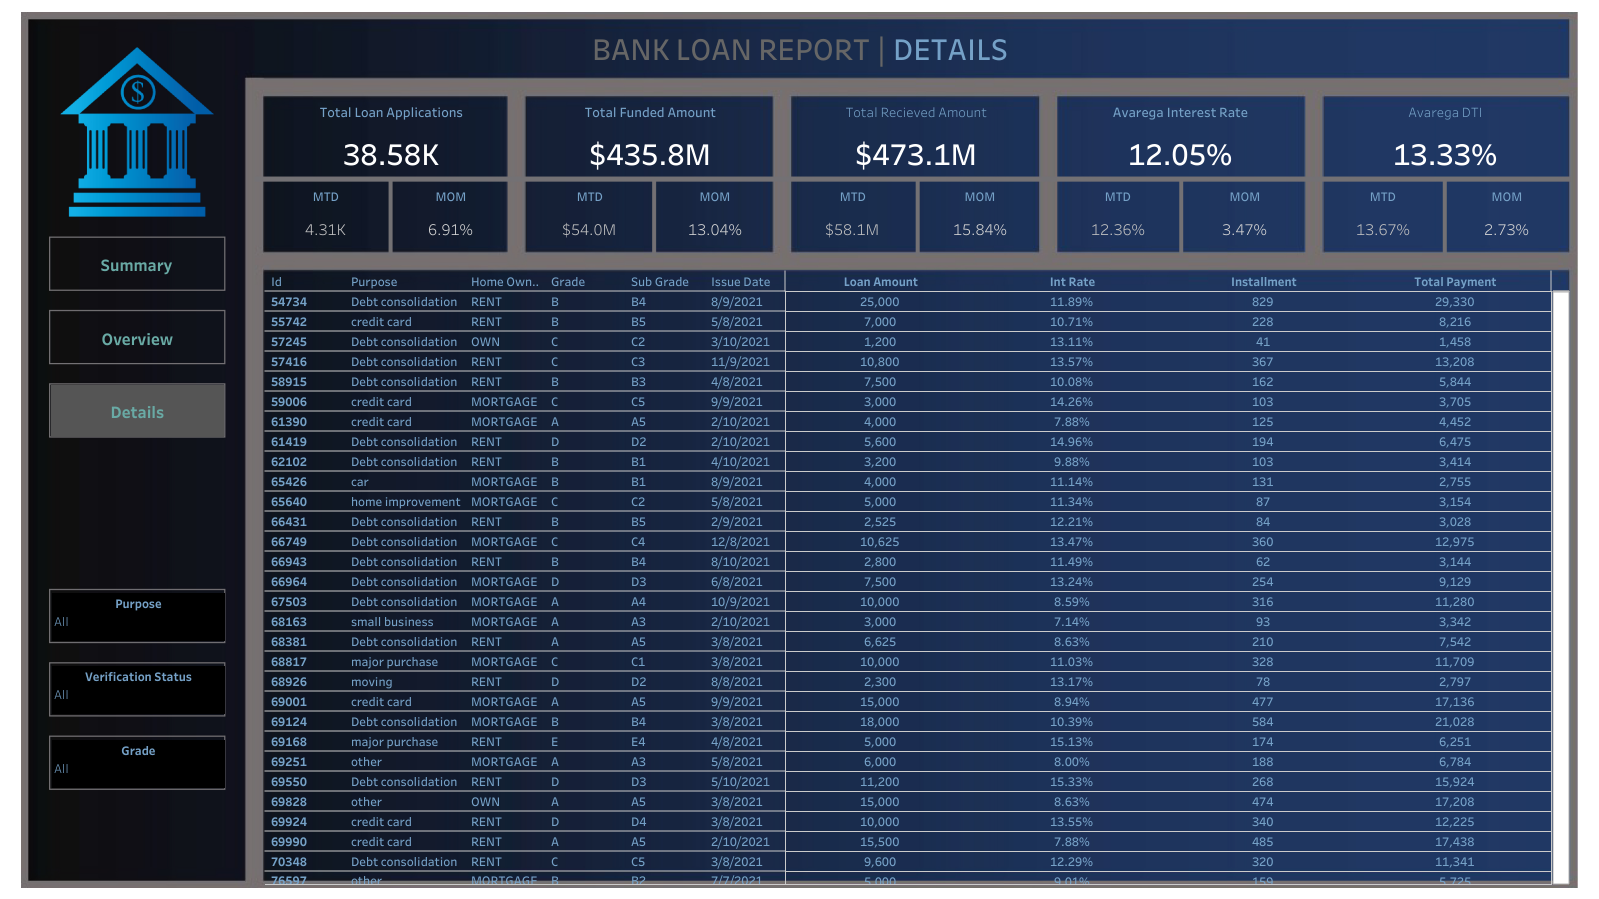

The dashboard page shown, as its layout file describes it:
{"tool":"tableau","page":{"name":"Details","canvas":[1600,900],"ordinal":0},"visuals":[{"type":"image","param":"Image/summary-01.jpg","box":[8,8,1584,884]},{"type":"text","box":[400,8,800,80]},{"type":"worksheet","title":"Total Loan Applications","mark":"Automatic","box":[269,96,245,81]},{"type":"worksheet","title":"Total Funded Amount","mark":"Automatic","box":[528,96,245,81]},{"type":"worksheet","title":"Total Recieved Amount","mark":"Automatic","box":[794,96,245,81]},{"type":"worksheet","title":"Avarega Interest Rate","mark":"Automatic","box":[1058,96,245,81]},{"type":"worksheet","title":"Avarega DTI","mark":"Automatic","box":[1323,96,245,81]},{"type":"worksheet","title":"MTD Total Loan Applications","mark":"Automatic","box":[273,181,106,63]},{"type":"worksheet","title":"MOM Total Loan Applications","mark":"Automatic","box":[398,181,106,63]},{"type":"worksheet","title":"MTD Total Funded Amount","mark":"Automatic","box":[537,181,106,63]},{"type":"worksheet","title":"MOM Total Funded Amount","mark":"Automatic","box":[662,181,106,63]},{"type":"worksheet","title":"MTD Total Received Amount","mark":"Automatic","box":[800,181,106,63]},{"type":"worksheet","title":"MOM Total Received Amount","mark":"Automatic","box":[927,181,106,63]},{"type":"worksheet","title":"MTD Average Interest Rate","mark":"Automatic","box":[1065,181,106,63]},{"type":"worksheet","title":"MOM Average Interest Rate","mark":"Automatic","box":[1192,181,106,63]},{"type":"worksheet","title":"MTD Average DTI","mark":"Automatic","box":[1330,181,106,63]},{"type":"worksheet","title":"MOM Average DTI","mark":"Automatic","box":[1454,181,106,63]},{"type":"dashboard-object","box":[50,238,173,52]},{"type":"worksheet","title":"Details Tab","mark":"Automatic","rows":["id","purpose","home_ownership","grade","sub_grade","con_issue_date"],"box":[265,271,1305,614]},{"type":"dashboard-object","box":[51,312,173,52]},{"type":"dashboard-object","box":[51,385,173,52]},{"type":"filter","title":"Avarega DTI","param":"[federated.054zzhb0m2kzyd1e27fpj0euf85e].[none:purpose:nk]","box":[52,593,173,48]},{"type":"filter","title":"Avarega DTI","param":"[federated.054zzhb0m2kzyd1e27fpj0euf85e].[none:verification_status:nk]","box":[52,666,173,48]},{"type":"filter","title":"Avarega DTI","param":"[federated.054zzhb0m2kzyd1e27fpj0euf85e].[none:grade:nk]","box":[52,740,173,48]}]}

Visuals, with their boxes in screenshot pixels (x1, y1, x2, y2), scaled from the page's 1600x900 canvas onto the 1599x899 screenshot:
image: <box>8,8,1591,891</box>
text: <box>400,8,1199,88</box>
"Total Loan Applications" worksheet: <box>269,96,514,177</box>
"Total Funded Amount" worksheet: <box>528,96,773,177</box>
"Total Recieved Amount" worksheet: <box>794,96,1038,177</box>
"Avarega Interest Rate" worksheet: <box>1057,96,1302,177</box>
"Avarega DTI" worksheet: <box>1322,96,1567,177</box>
"MTD Total Loan Applications" worksheet: <box>273,181,379,244</box>
"MOM Total Loan Applications" worksheet: <box>398,181,504,244</box>
"MTD Total Funded Amount" worksheet: <box>537,181,643,244</box>
"MOM Total Funded Amount" worksheet: <box>662,181,768,244</box>
"MTD Total Received Amount" worksheet: <box>800,181,905,244</box>
"MOM Total Received Amount" worksheet: <box>926,181,1032,244</box>
"MTD Average Interest Rate" worksheet: <box>1064,181,1170,244</box>
"MOM Average Interest Rate" worksheet: <box>1191,181,1297,244</box>
"MTD Average DTI" worksheet: <box>1329,181,1435,244</box>
"MOM Average DTI" worksheet: <box>1453,181,1559,244</box>
dashboard-object: <box>50,238,223,290</box>
"Details Tab" worksheet: <box>265,271,1569,884</box>
dashboard-object: <box>51,312,224,364</box>
dashboard-object: <box>51,385,224,437</box>
"Avarega DTI" filter: <box>52,592,225,640</box>
"Avarega DTI" filter: <box>52,665,225,713</box>
"Avarega DTI" filter: <box>52,739,225,787</box>
